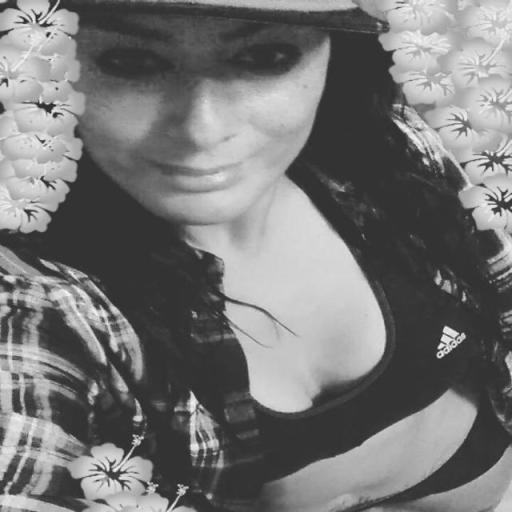Adidas: (432, 320, 470, 364)
